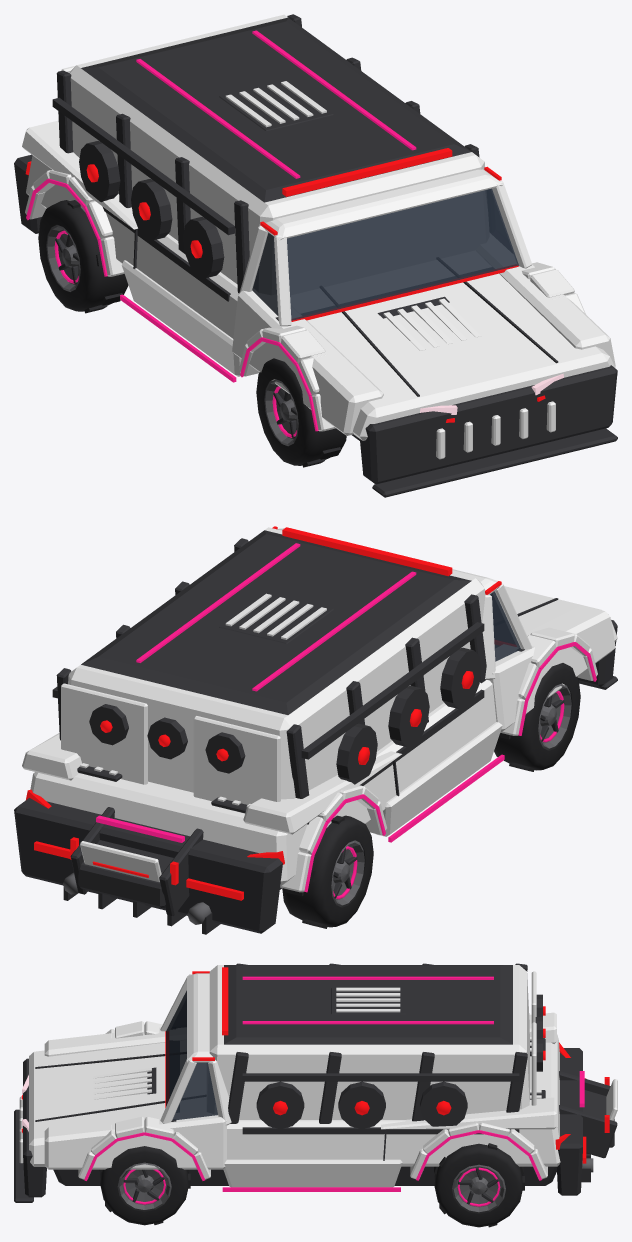
File: mine_layer_phone.glb
3 views of the same model, one above another, from view 1: azimuth 30°, elevation 25°; view 2: azimuth 150°, elevation 25°; view 3: azimuth 270°, elevation 25° (orthographic). The views are drawn at different scales.
Parts seen in each view (by area): view 1: mine_layer_body, wheel_RL_mesh, wheel_FL_mesh; view 2: mine_layer_body, wheel_RL_mesh, wheel_FL_mesh, chute_hatch_mesh; view 3: mine_layer_body, wheel_RR_mesh, wheel_FR_mesh, chute_hatch_mesh.
Boxes of the visible parts, x1,y1,x2,y2 form: mine_layer_body: [14, 14, 617, 497]; wheel_RL_mesh: [38, 200, 128, 313]; wheel_FL_mesh: [256, 358, 346, 467]; mine_layer_body: [14, 526, 617, 934]; wheel_RL_mesh: [282, 815, 373, 928]; wheel_FL_mesh: [494, 663, 580, 771]; chute_hatch_mesh: [80, 841, 161, 882]; mine_layer_body: [14, 963, 617, 1202]; wheel_RR_mesh: [434, 1143, 524, 1227]; wheel_FR_mesh: [99, 1146, 190, 1225]; chute_hatch_mesh: [606, 1079, 617, 1120].
Bounding box in the file's own units: 2.06 × 1.55 × 4.81.
Materials: 6 (1 with a texture image).
